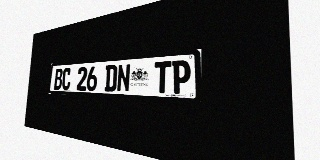2: (76, 67, 87, 91)
6: (86, 66, 98, 91)
B: (54, 68, 63, 90)
C: (61, 68, 71, 90)
D: (104, 65, 117, 92)
N: (116, 64, 131, 92)
P: (171, 60, 191, 94)
T: (154, 61, 171, 93)
